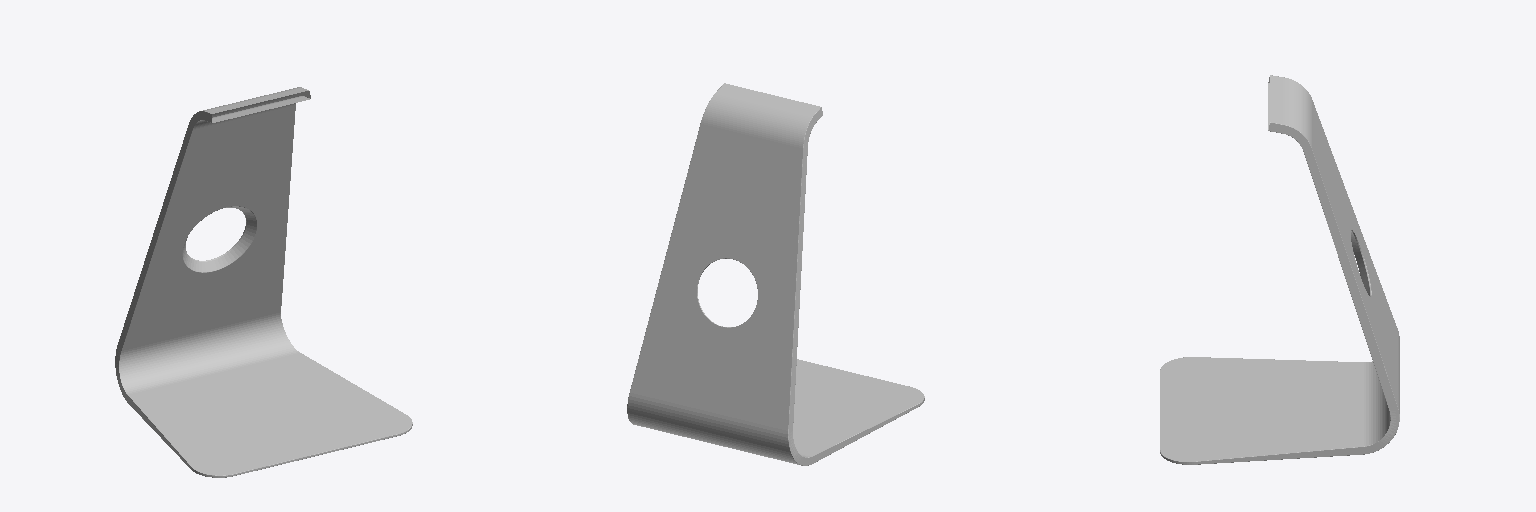
File: com_1.obj
3 renders of one model, left to right at view 1: azimuth 30°, elevation 25°; view 2: azimuth 150°, elevation 25°; view 3: azimuth 270°, elevation 25°, orthographic.
Visible parts, largest first — view 1: Apple_iMac_27___leg; view 2: Apple_iMac_27___leg; view 3: Apple_iMac_27___leg.
Part boxes in pixels (left/top/right/bottom): Apple_iMac_27___leg: left=115, top=87, right=412, bottom=477; Apple_iMac_27___leg: left=627, top=83, right=924, bottom=465; Apple_iMac_27___leg: left=1160, top=75, right=1399, bottom=464.
Bounding box in the file's own units: 216 × 301 × 208.